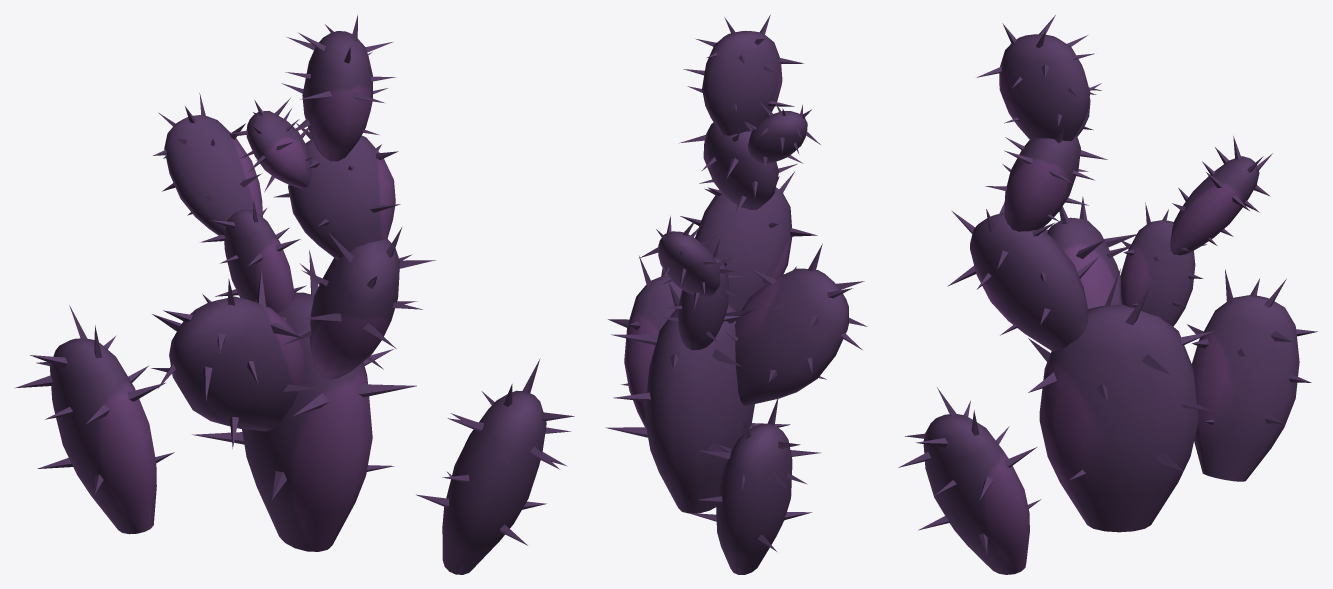
Rendered from cact5.fbx.
The picture shows the model from 3 angles, left to right: view 1: azimuth 30°, elevation 25°; view 2: azimuth 150°, elevation 25°; view 3: azimuth 270°, elevation 25°; orthographic projection. The views are drawn at different scales.
Visible parts, largest first — view 1: pCone135; view 2: pCone135; view 3: pCone135.
Boxes of the visible parts, x1,y1,x2,y2 form: pCone135: (14,15,574,574); pCone135: (605,15,867,574); pCone135: (898,15,1317,574).
Size of the model in its own units: 3.37 by 4.64 by 3.5.
